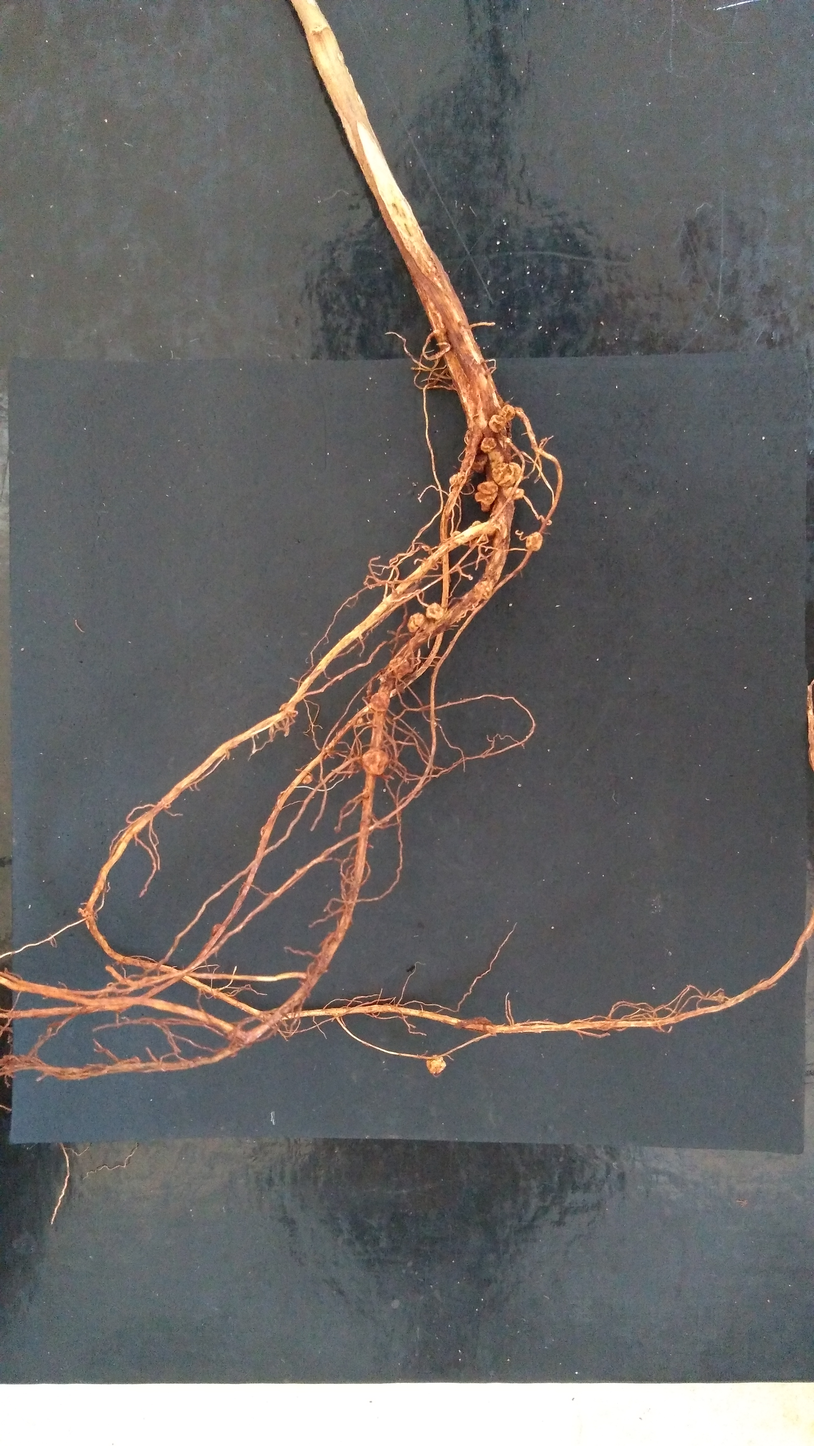nodule: (361, 747, 392, 776), (474, 480, 498, 511), (492, 462, 522, 485), (388, 655, 414, 678), (468, 521, 488, 547), (407, 612, 429, 633), (370, 690, 391, 711), (473, 579, 493, 601), (426, 1055, 446, 1075), (471, 450, 489, 472), (489, 414, 508, 433), (277, 702, 300, 717), (502, 485, 525, 500), (426, 602, 446, 619), (526, 532, 543, 552), (489, 449, 505, 470), (448, 471, 469, 486), (480, 437, 497, 454), (501, 403, 515, 421), (451, 530, 464, 544), (301, 770, 313, 785), (210, 923, 221, 936), (353, 716, 364, 726)
